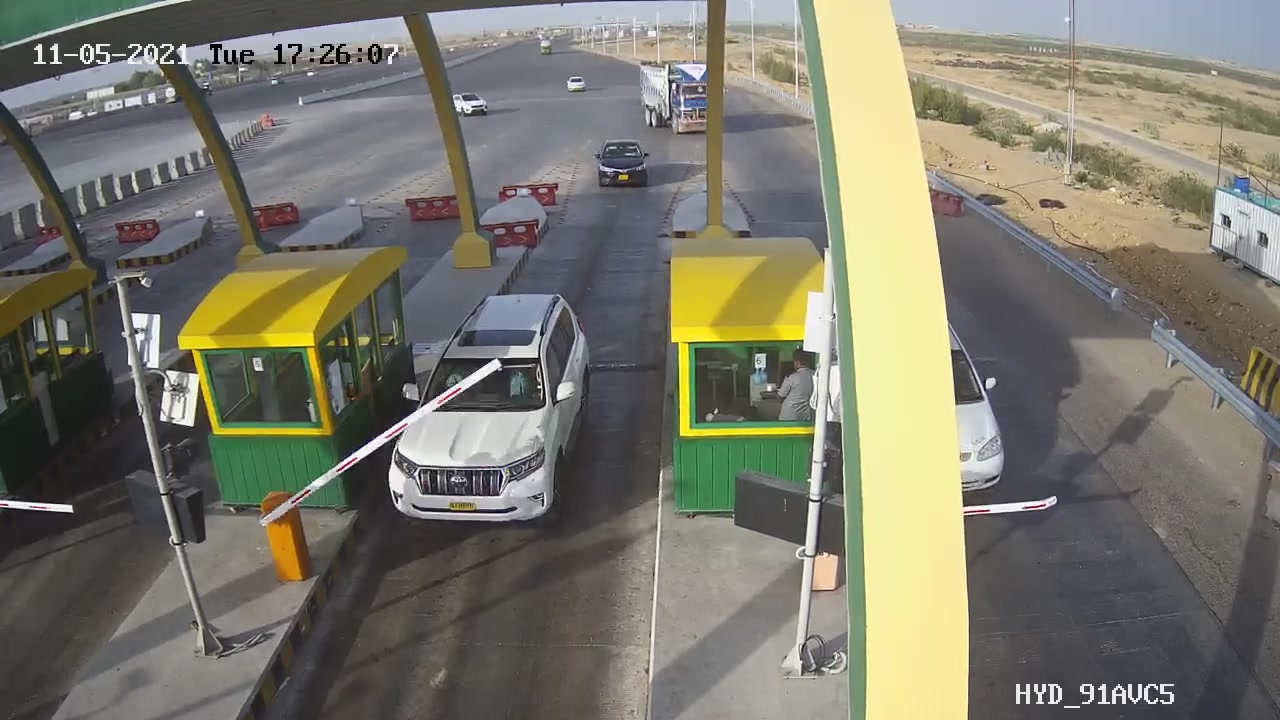F1: (372, 277, 614, 542)
